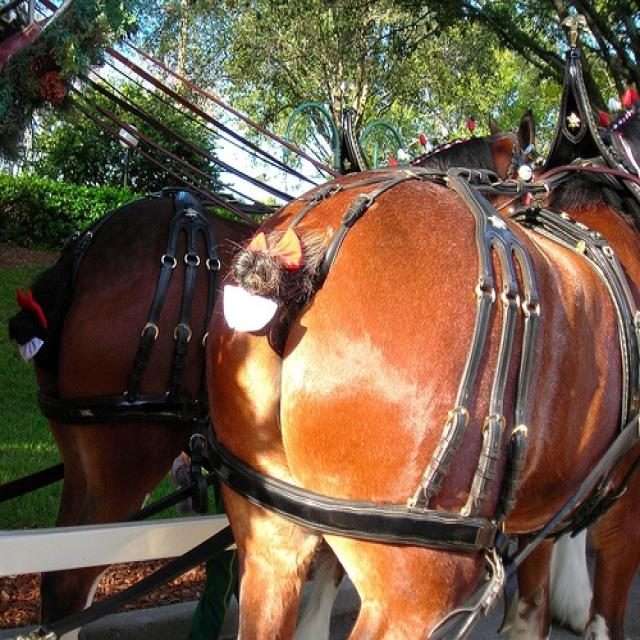horse: (6, 107, 535, 637), (202, 163, 639, 638)
